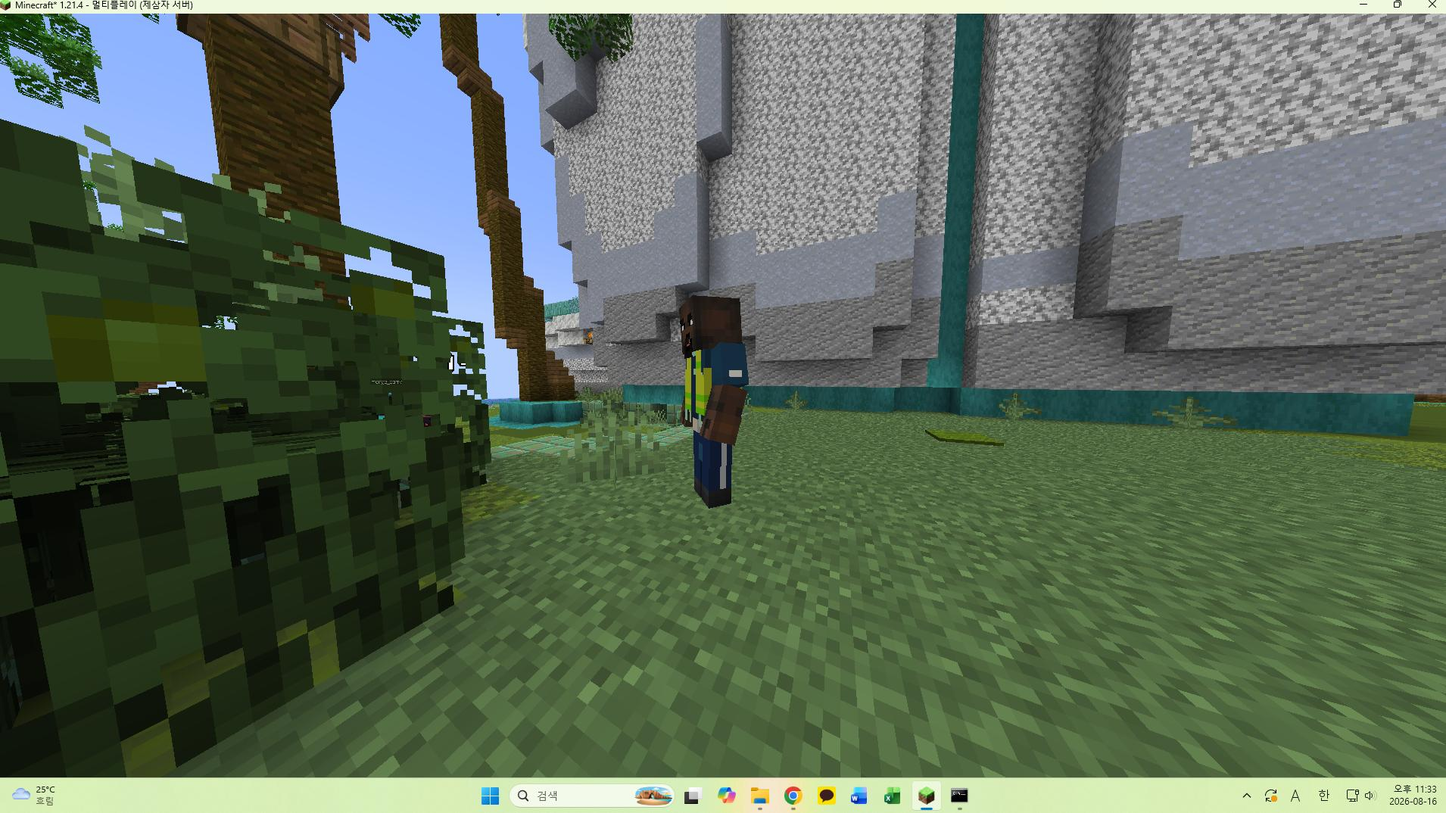Guardian: (679, 295, 749, 507)
